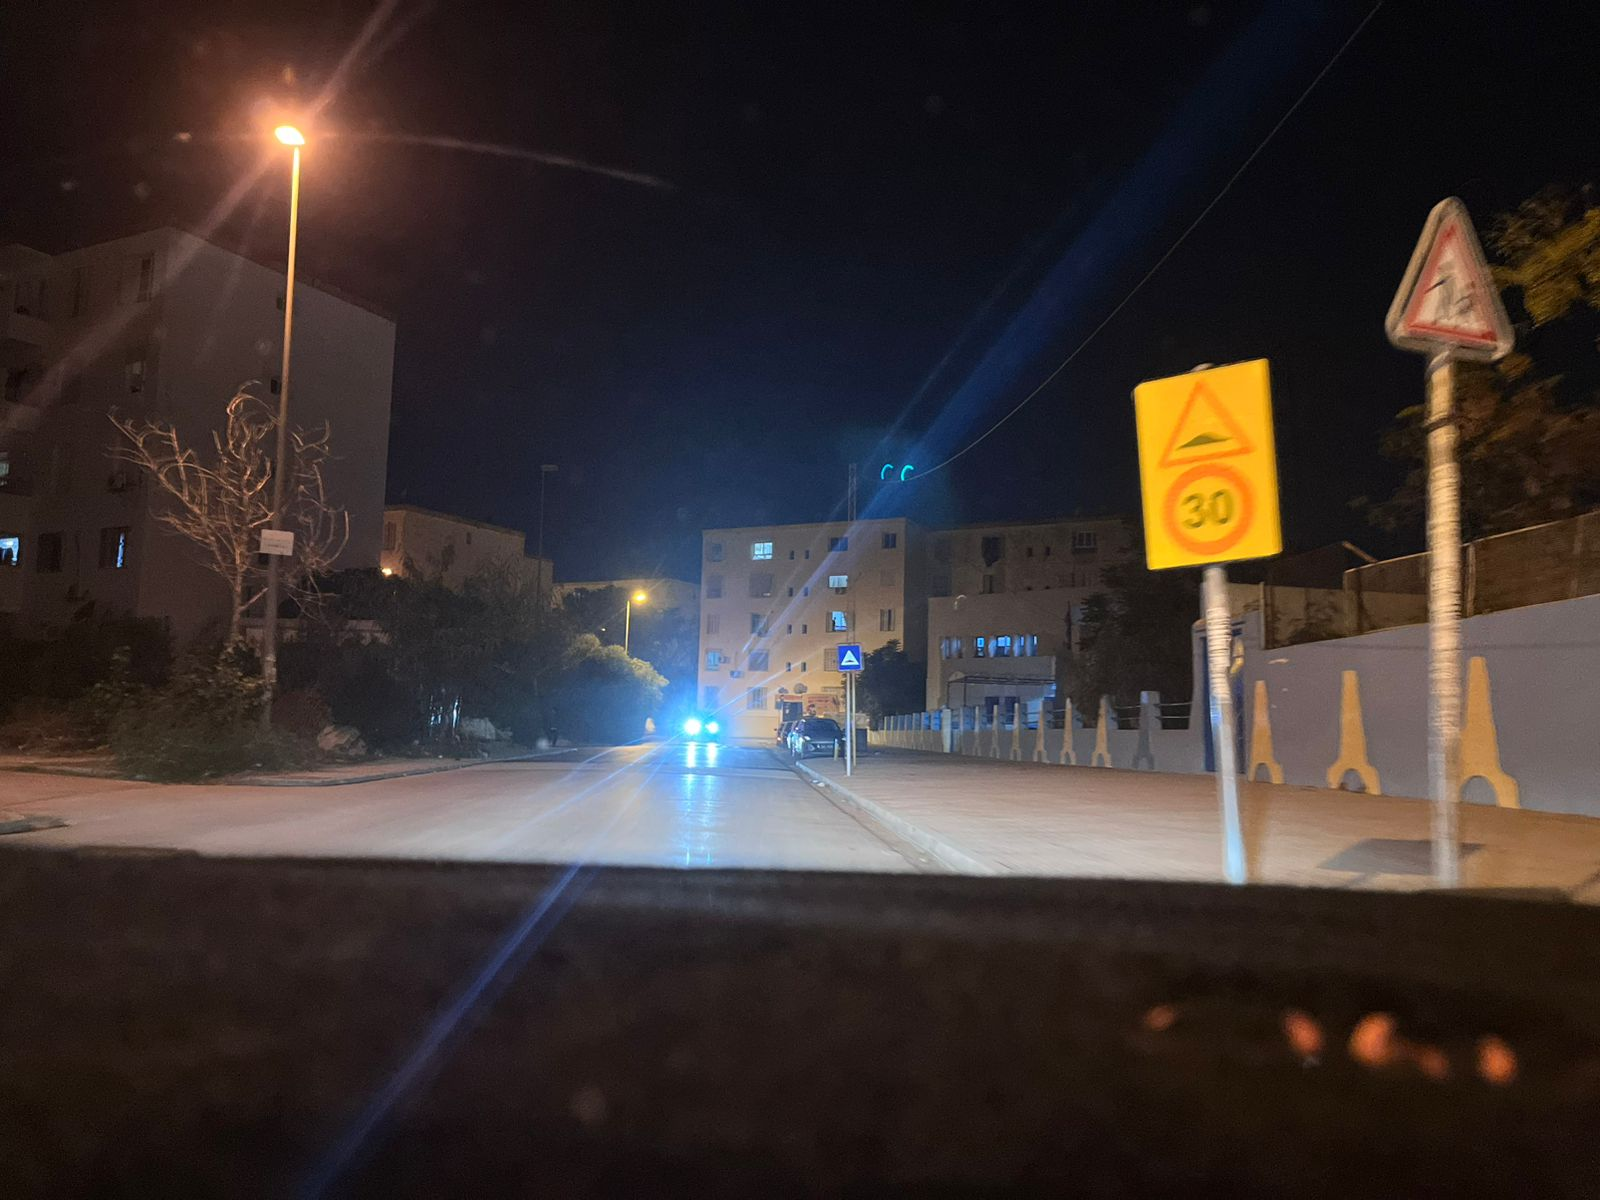SpeedLimit30: (1131, 357, 1283, 571)
